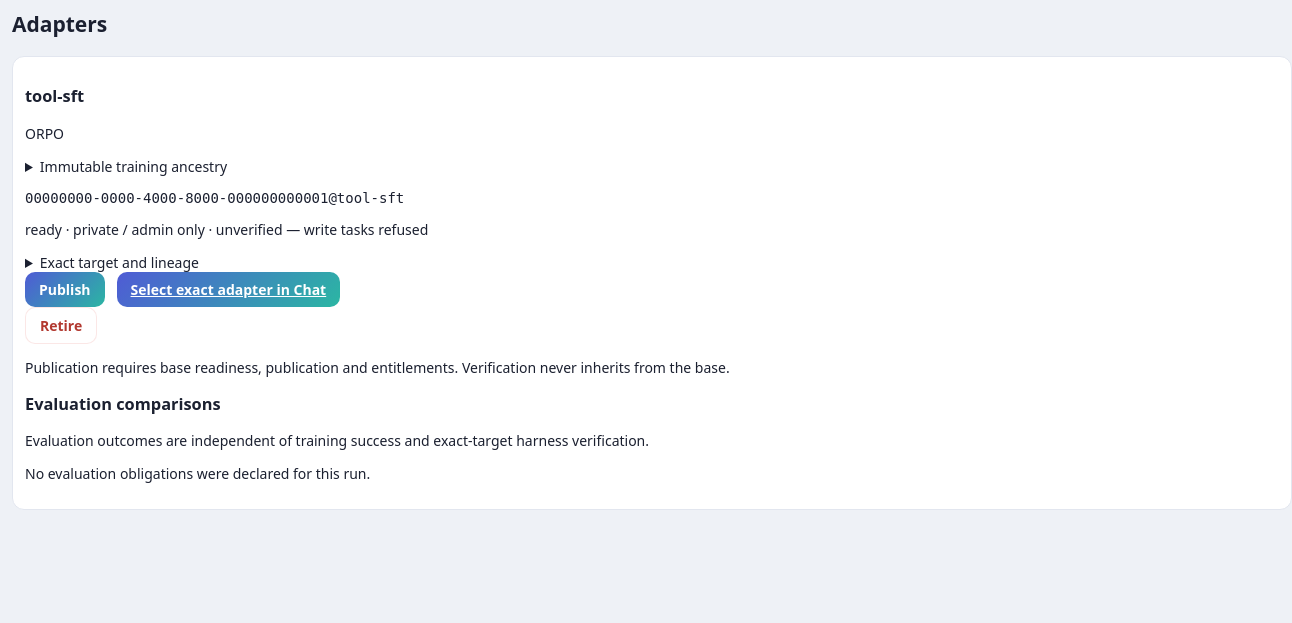
Test case: immutable ancestry is fetched on expansion and displays retained parent provenance
Expected: the text "ORPO" is shown, [25,124,64,143]
Click the heading "Immutable training ancestry" at {"x": 133, "y": 166}, box [40,157,227,176]
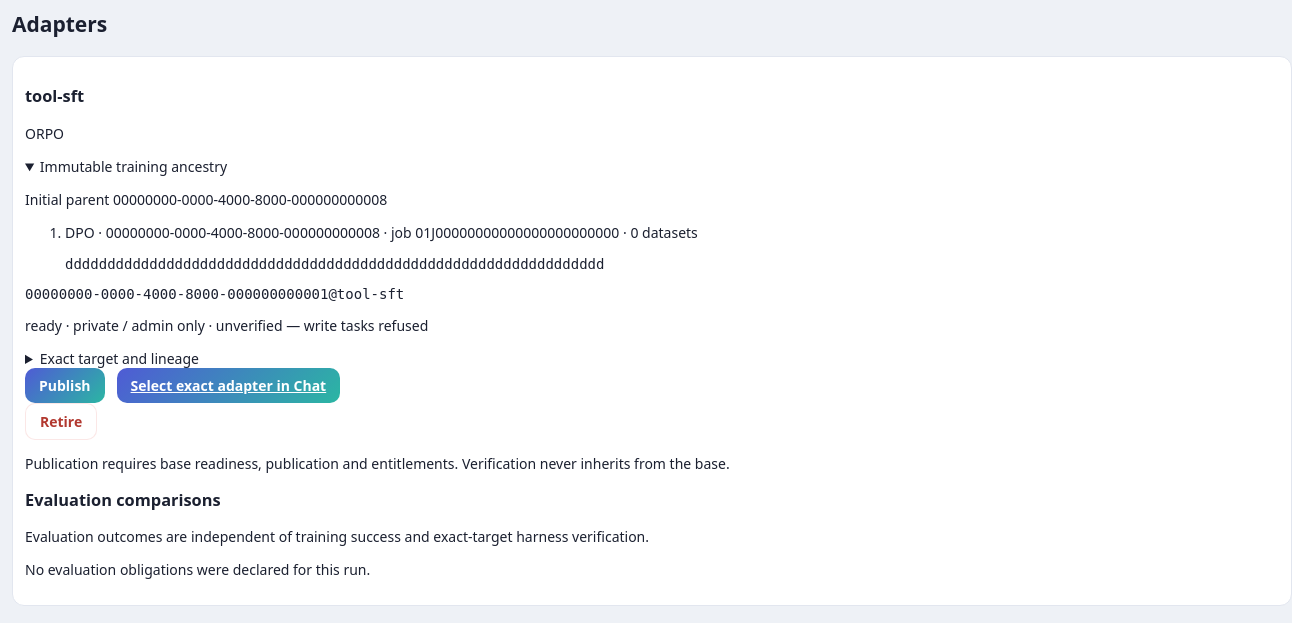
Now the text "dddddddddddddddddddddddddddddddddddddddddddddddddddddddddddddddd" is shown, box [65,256,604,272]
